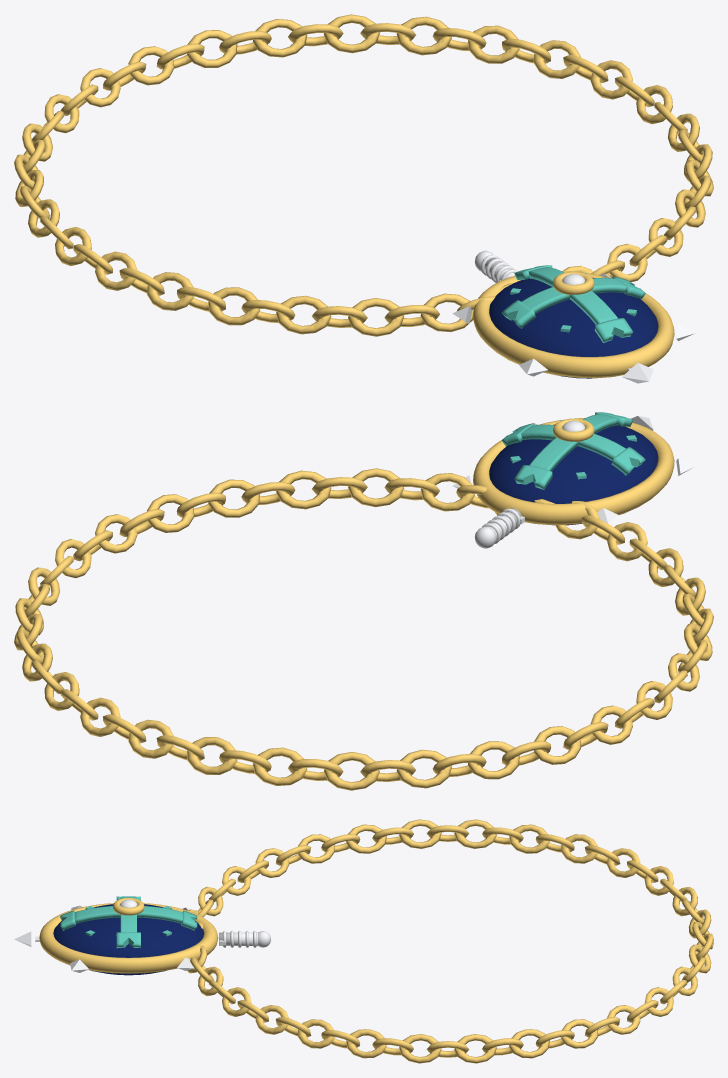
The model's file is PaladinNecklace.fbx.
3 views of the same model, one above another, from view 1: azimuth 30°, elevation 25°; view 2: azimuth 150°, elevation 25°; view 3: azimuth 270°, elevation 25° (orthographic). The views are drawn at different scales.
Visible parts, largest first — view 1: Chain, Pendant_Gem, Pendant_Rim, Cross_V, Cross_H, Cross_EndS, Pendant_CenterRing; view 2: Chain, Pendant_Gem, Pendant_Rim, Cross_V, Cross_H, Cross_EndN, Pendant_CenterRing; view 3: Chain, Pendant_Gem, Pendant_Rim, Cross_V.
Boxes of the visible parts, x1,y1,x2,y2 form: Chain: (14,14,713,336); Pendant_Gem: (489,277,658,378); Pendant_Rim: (473,271,674,377); Cross_V: (528,267,617,324); Cross_H: (521,277,626,314); Cross_EndS: (594,318,632,343); Pendant_CenterRing: (553,271,594,294); Chain: (14,468,713,790); Pendant_Gem: (489,424,658,525); Pendant_Rim: (473,418,674,524); Cross_V: (529,414,618,471); Cross_H: (521,424,625,460); Cross_EndN: (514,465,552,489); Pendant_CenterRing: (553,418,594,441); Chain: (187,819,713,1063); Pendant_Gem: (53,904,204,975); Pendant_Rim: (39,903,218,973); Cross_V: (74,906,182,923).
Size of the model in its own units: 6.68 by 0.8747 by 8.77.
